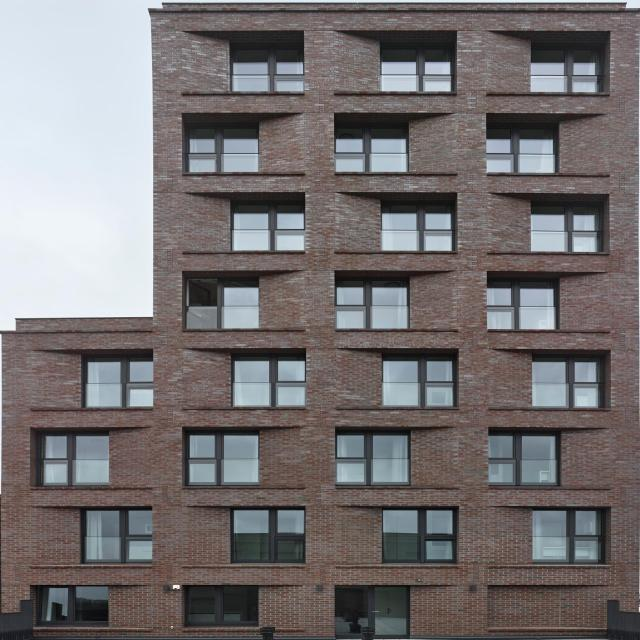door: (334, 584, 406, 640)
wall: (0, 0, 638, 638)
windows: (530, 507, 603, 563), (36, 433, 110, 488), (381, 509, 456, 563), (485, 279, 563, 329), (236, 355, 306, 410), (230, 44, 304, 96), (489, 434, 561, 486), (382, 356, 458, 405), (185, 280, 260, 329), (233, 511, 301, 564), (83, 357, 154, 407), (338, 434, 406, 486), (188, 436, 258, 486), (85, 510, 151, 562), (234, 202, 304, 251), (380, 46, 454, 91), (382, 205, 454, 251), (532, 356, 598, 406), (485, 126, 553, 174), (529, 206, 603, 250), (338, 280, 408, 326), (336, 127, 406, 170), (532, 48, 600, 92), (35, 582, 106, 624), (193, 128, 257, 173), (187, 583, 257, 624)
